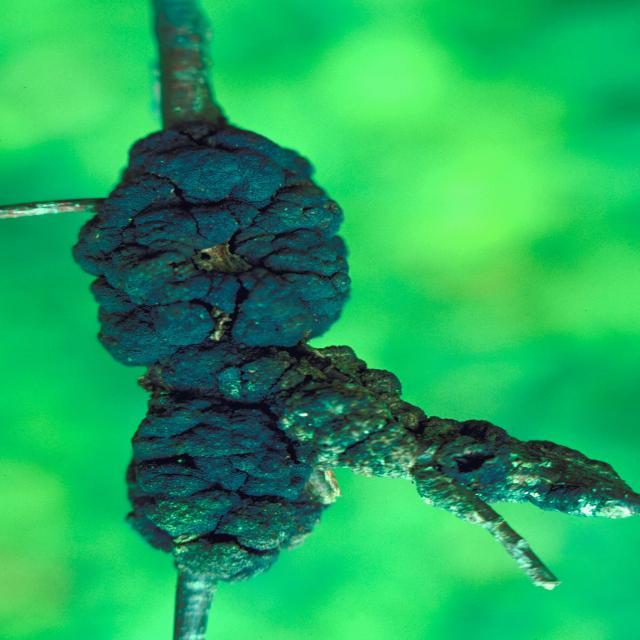Black_knot: (67, 2, 638, 637), (71, 117, 352, 365)
